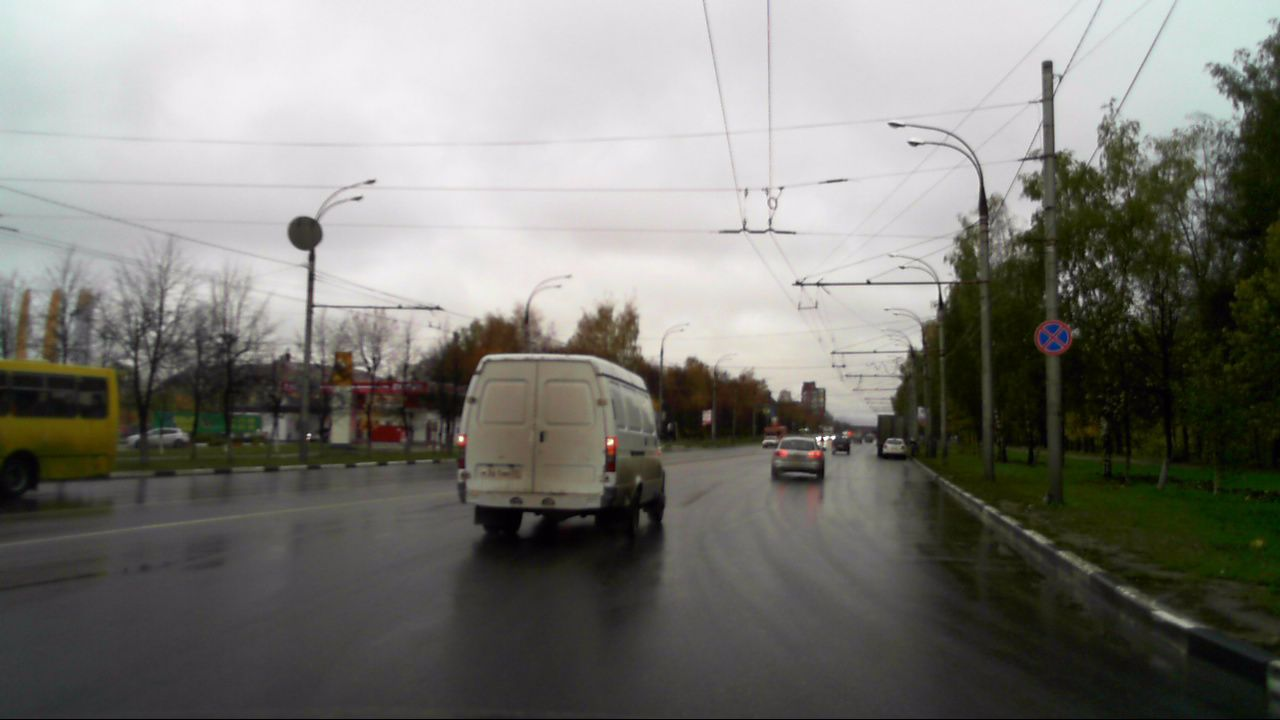No Parking: (1030, 319, 1073, 357)
